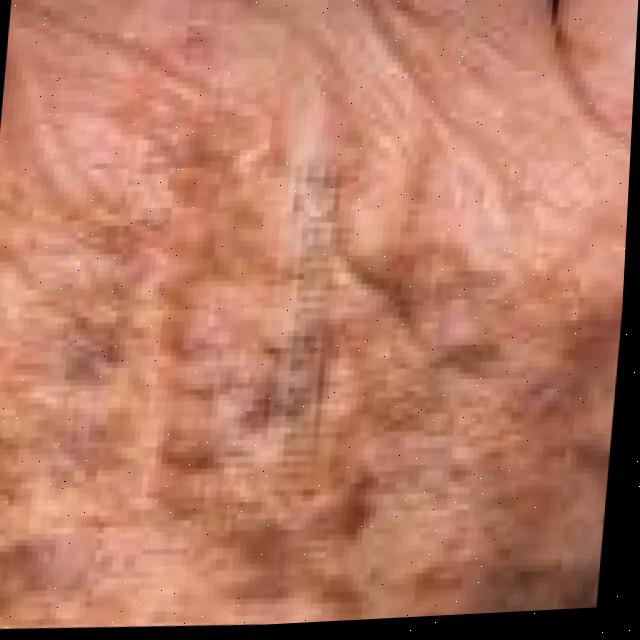Melasma: (0, 47, 597, 638)
